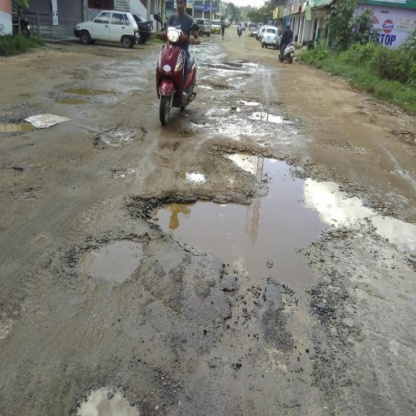pothole: (132, 125, 376, 306), (54, 211, 153, 297), (232, 92, 305, 134), (45, 77, 122, 113)
